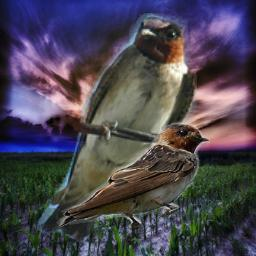Swallow: (36, 13, 197, 243), (56, 121, 210, 233)
